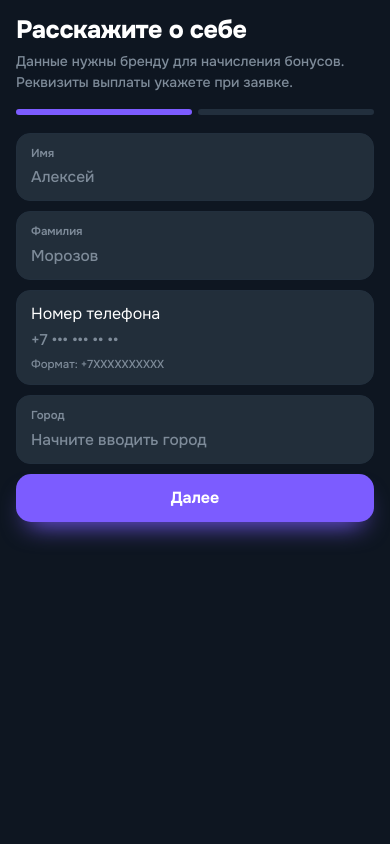
RegPage — city combobox › city_renders_options: shows all cities when opened
Click the dropdown. click: (195, 440)
box: [31, 428, 359, 452]
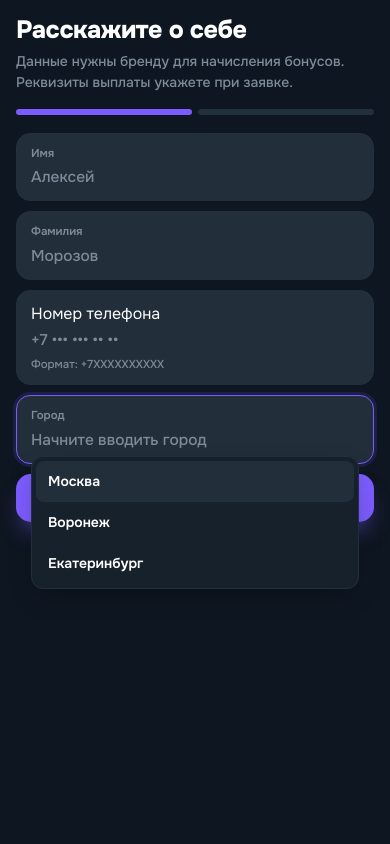
Now the option "Москва" is shown, box [36, 461, 354, 502]
Now the option "Воронеж" is shown, box [48, 513, 110, 531]
Now the option "Екатеринбург" is shown, box [48, 554, 143, 572]
